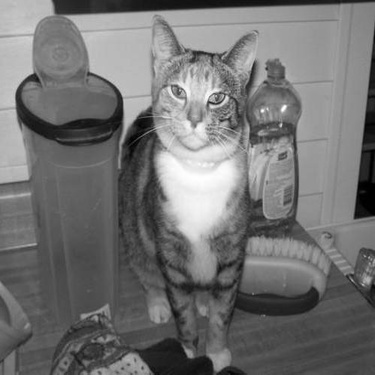cat: (118, 14, 260, 367)
